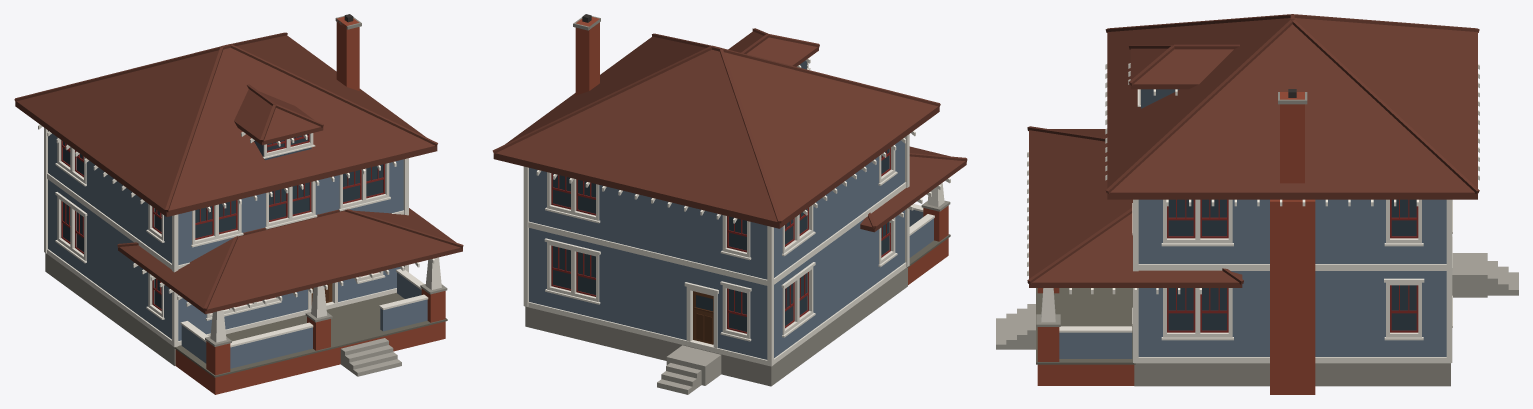
The model's file is craftsman.fbx.
3 renders of one model, left to right at view 1: azimuth 30°, elevation 25°; view 2: azimuth 150°, elevation 25°; view 3: azimuth 270°, elevation 25°, orthographic. The views are drawn at different scales.
Parts seen in each view (by area): view 1: Craftsman_6427_LOD0; view 2: Craftsman_6427_LOD0; view 3: Craftsman_6427_LOD0.
Boxes of the visible parts, <box> form: Craftsman_6427_LOD0: <box>14,14,463,394</box>; Craftsman_6427_LOD0: <box>492,14,967,394</box>; Craftsman_6427_LOD0: <box>996,14,1518,394</box>.
Bounding box in the file's own units: 11.14 × 9.53 × 15.07.
Materials: 1 (1 with a texture image).
